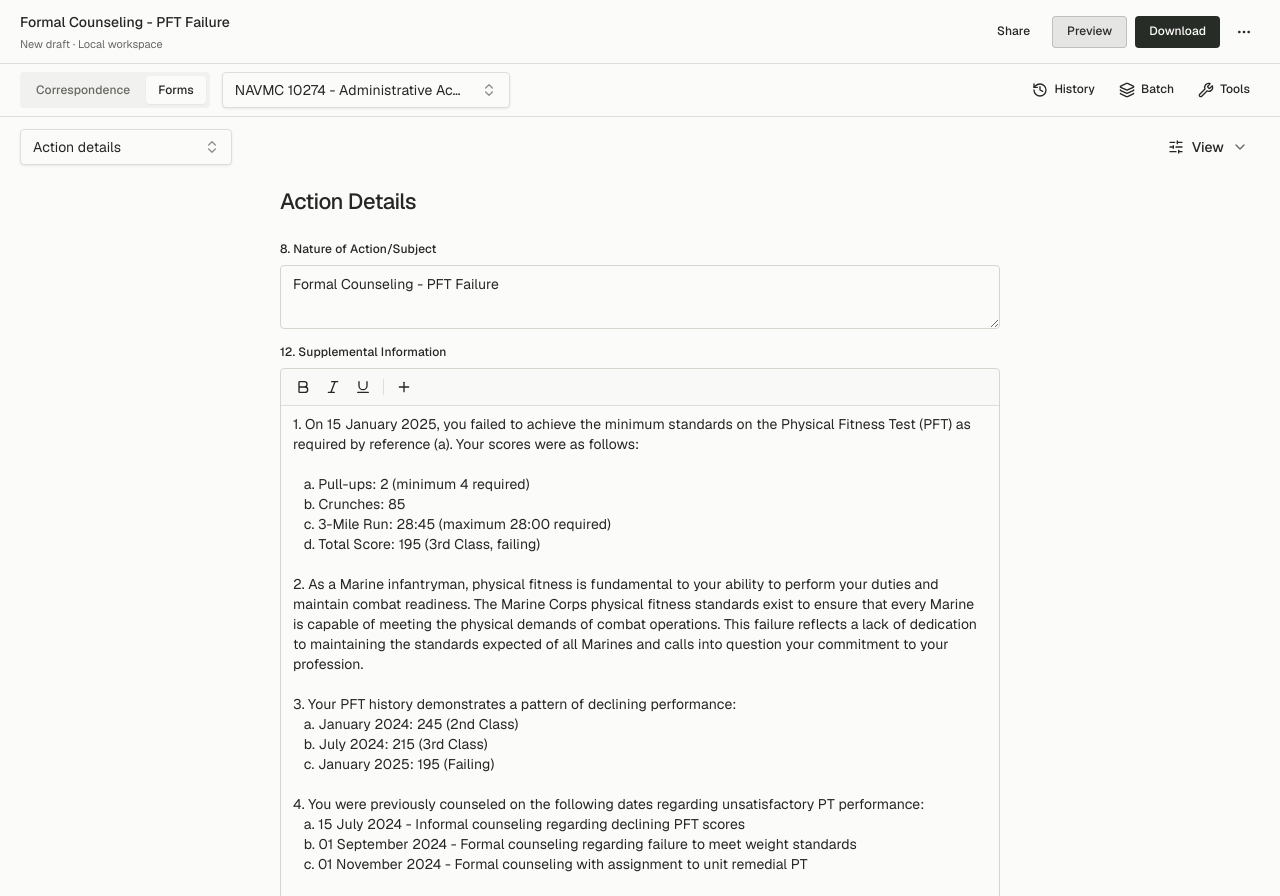
Scenario: focused workspace editor › keeps all navmc_10274 sections reachable without showing the entire form at once
The width and height of the screenshot is (1280, 896).
Select "Signatures" in the dropdown named "Document section" at (126, 147), box [20,129,232,165]
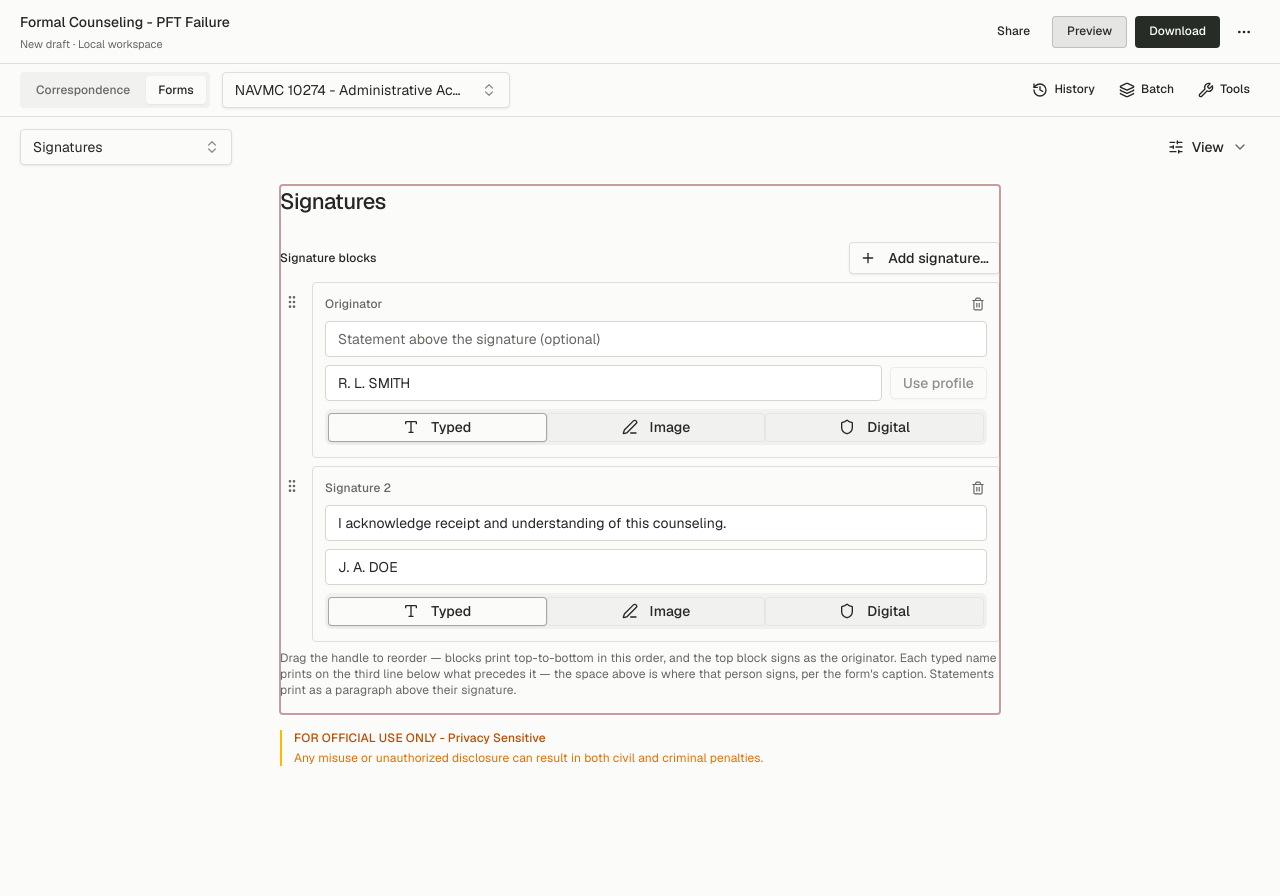
expect the element with id "sec-signatures" is shown: met, box [280,185,1000,714]
Select "Header information" in the dropdown named "Document section" at (126, 147), box [20,129,232,165]
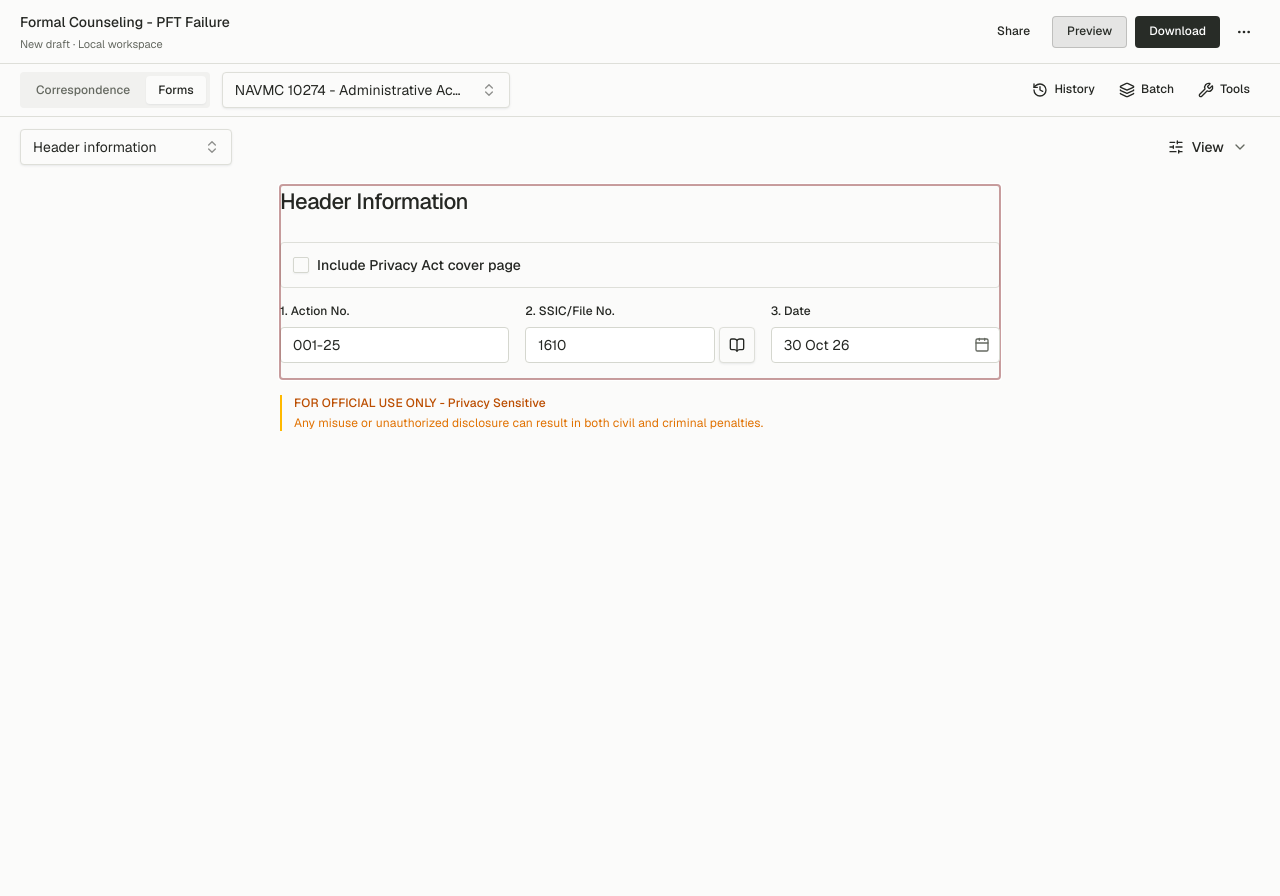
expect the element with id "sec-signatures" is gone: met
